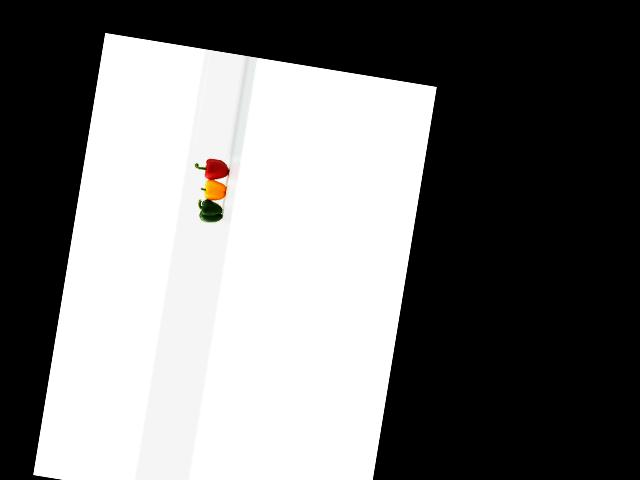bell_pepper: (190, 149, 235, 184)
